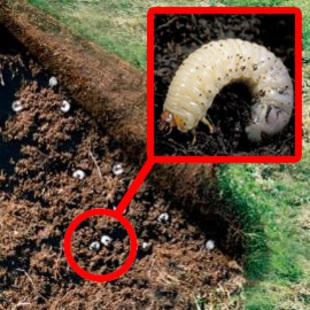grub: (162, 32, 294, 147)
